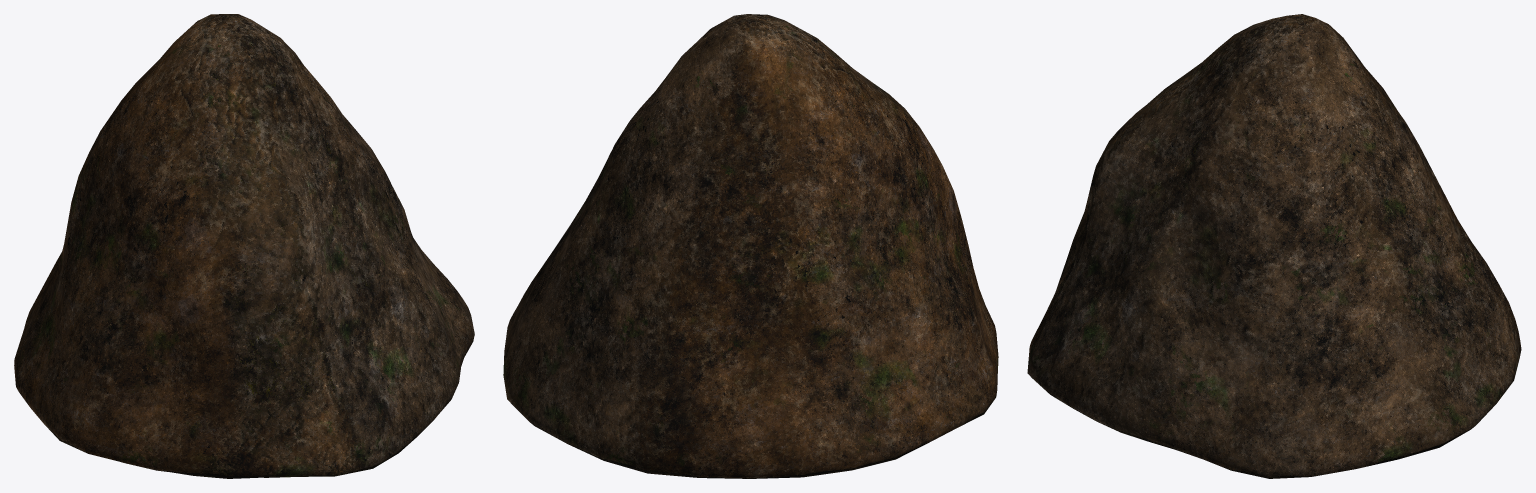
The model's file is SM_TI_Hill_1.gltf.
3 renders of one model, left to right at view 1: azimuth 30°, elevation 25°; view 2: azimuth 150°, elevation 25°; view 3: azimuth 270°, elevation 25°, orthographic. The views are drawn at different scales.
Parts seen in each view (by area): view 1: SM_TI_Hill_1; view 2: SM_TI_Hill_1; view 3: SM_TI_Hill_1.
Boxes of the visible parts, x1,y1,x2,y2 form: SM_TI_Hill_1: (14,14,474,478); SM_TI_Hill_1: (503,14,998,478); SM_TI_Hill_1: (1027,14,1521,478).
Bounding box in the file's own units: 39.27 × 31.33 × 39.56.
Materials: 1 (1 with a texture image).
